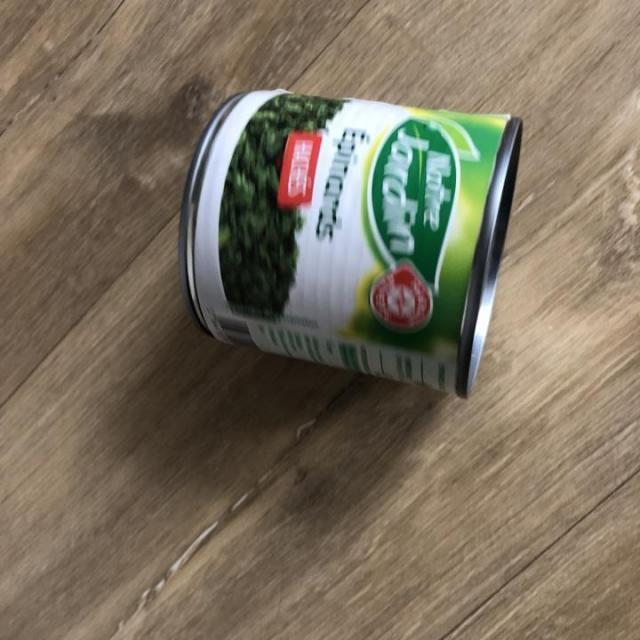recyclable: (174, 81, 536, 408)
